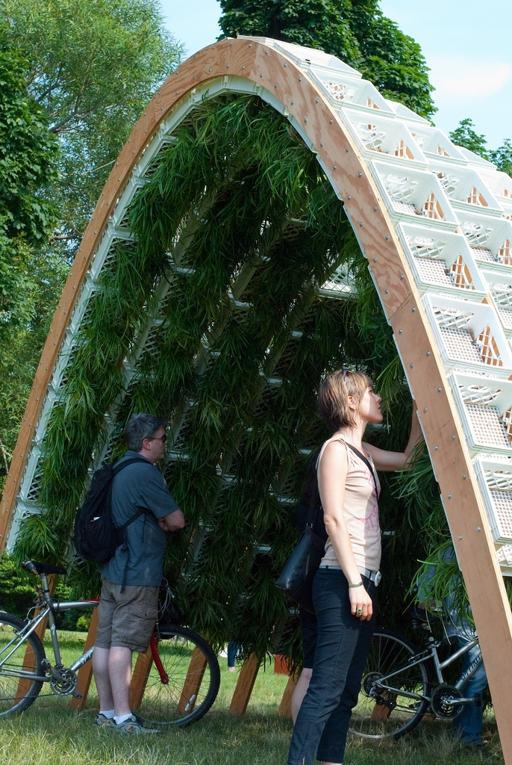non-vehicle: (347, 606, 482, 742)
